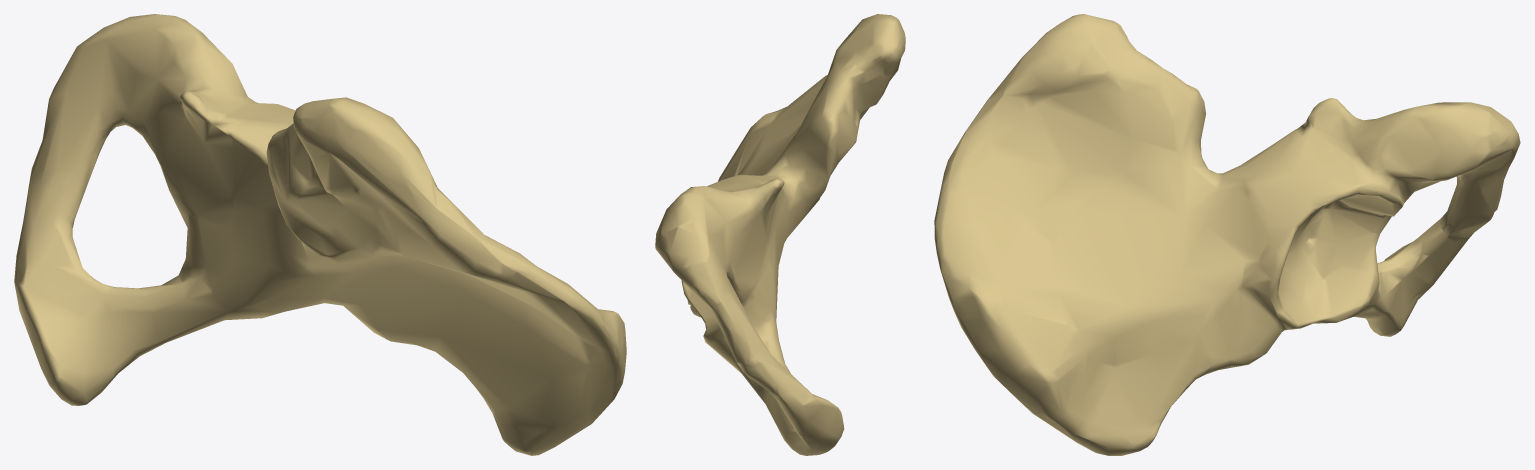
3 renders of one model, left to right at view 1: azimuth 30°, elevation 25°; view 2: azimuth 150°, elevation 25°; view 3: azimuth 270°, elevation 25°, orthographic. The views are drawn at different scales.
Visible parts, largest first — view 1: 左侧髋骨; view 2: 左侧髋骨; view 3: 左侧髋骨.
Boxes of the visible parts, <box> form: 左侧髋骨: <box>14,14,626,455</box>; 左侧髋骨: <box>655,14,905,455</box>; 左侧髋骨: <box>934,14,1520,455</box>.
Size of the model in its own units: 0.1944 by 0.2105 by 0.3162.
